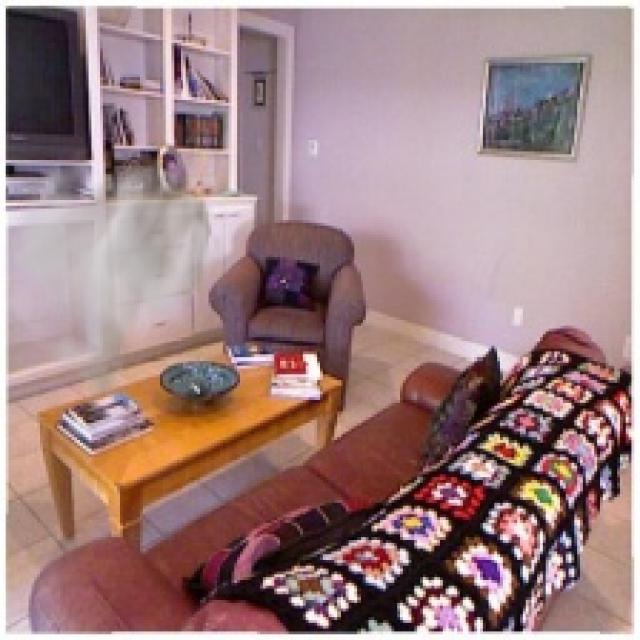smoke: (0, 134, 232, 415)
